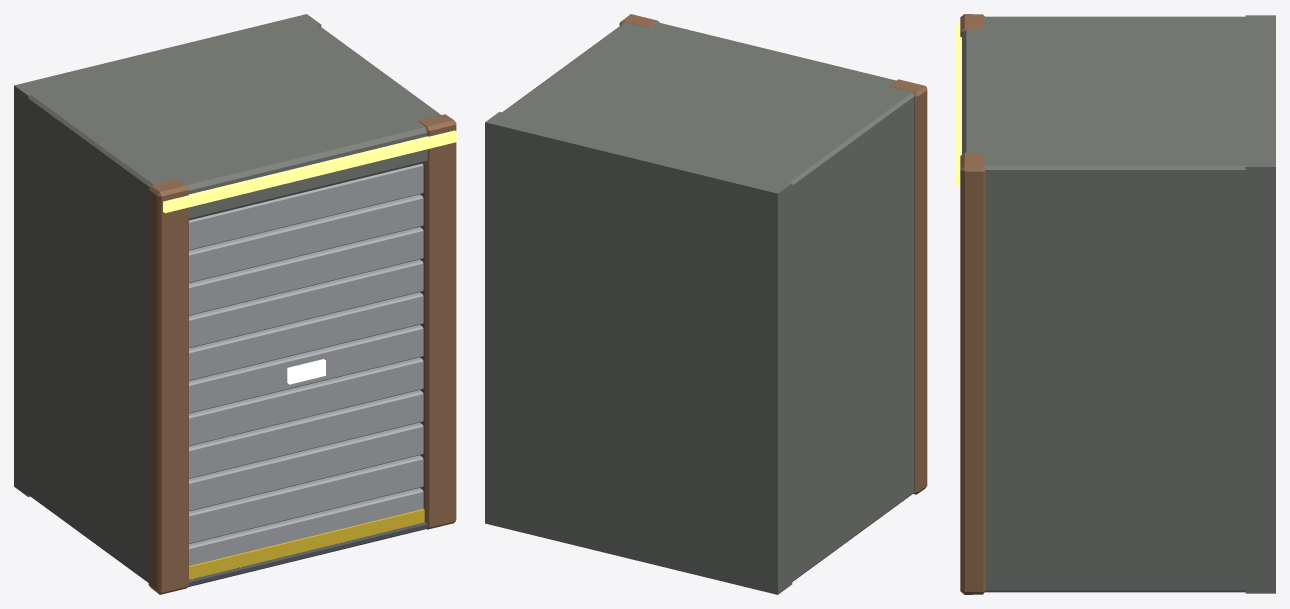
The model's file is rb_station_deadbot.glb.
The picture shows the model from 3 angles, left to right: view 1: azimuth 30°, elevation 25°; view 2: azimuth 150°, elevation 25°; view 3: azimuth 270°, elevation 25°; orthographic projection. The views are drawn at different scales.
Visible parts, largest first — view 1: rb_station_deadbot, shutter; view 2: rb_station_deadbot; view 3: rb_station_deadbot.
Boxes of the visible parts, bbox=[...] form: rb_station_deadbot: bbox=[14, 14, 456, 594]; shutter: bbox=[189, 163, 424, 579]; rb_station_deadbot: bbox=[485, 14, 927, 594]; rb_station_deadbot: bbox=[956, 14, 1275, 594].
Bounding box in the file's own units: 2.46 × 3.17 × 2.14.
